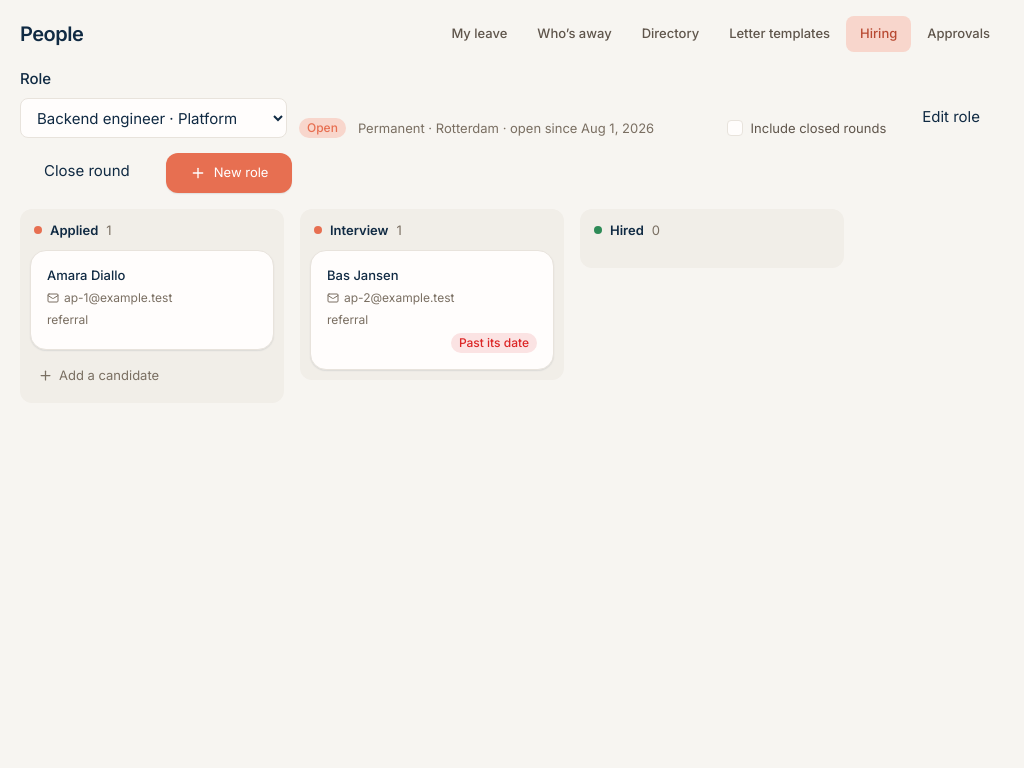
Test: the hiring board › the candidate's agent panel is in the drawer, citing where they applied from
Click the text "Amara Diallo".
click(86, 275)  # box top-left (47, 267), bottom-right (125, 283)
(page scrolled)
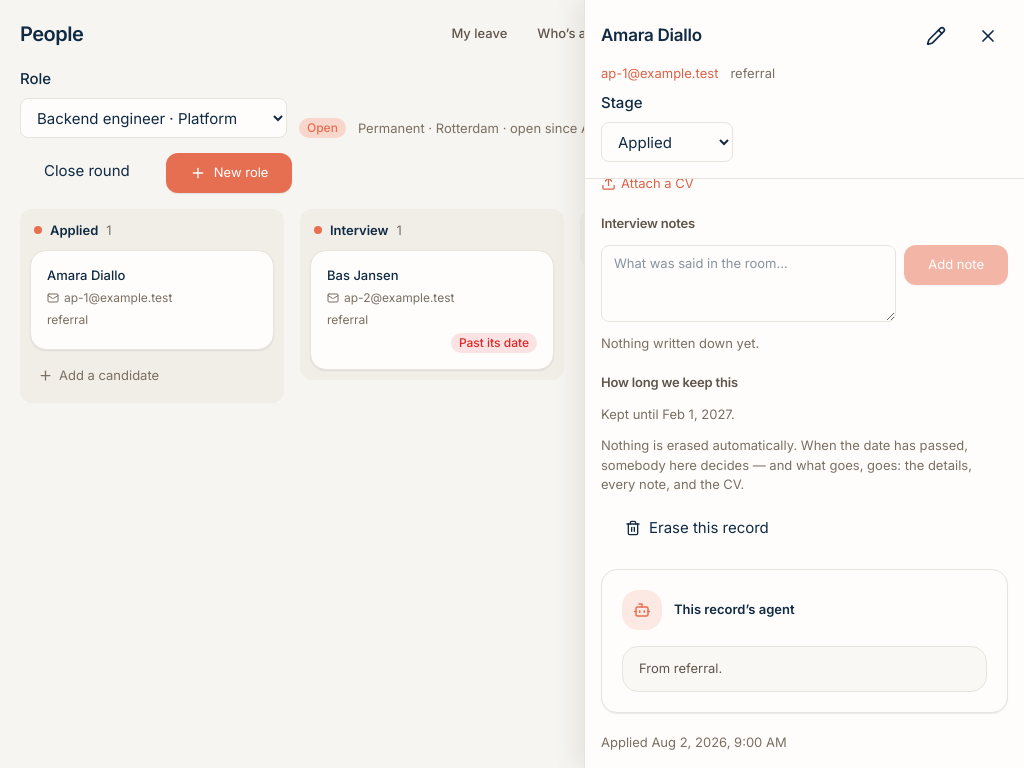
Check: the text "This record’s agent" is shown, box top-left (674, 600), bottom-right (794, 620)
